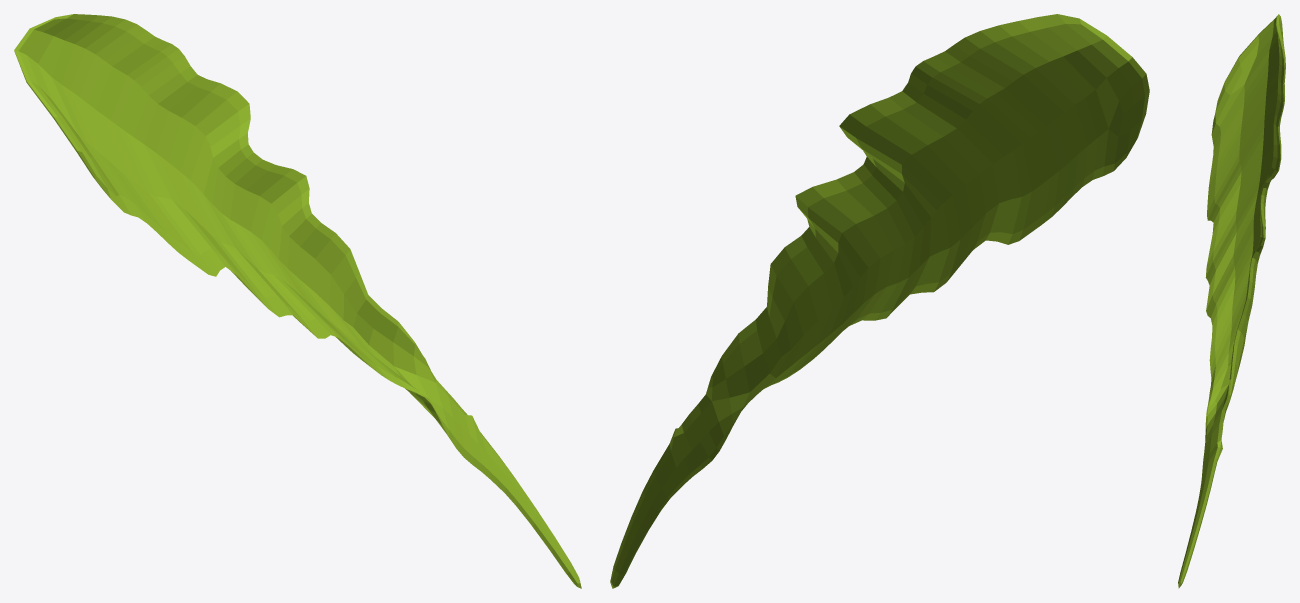
Rendered from hoja 1.fbx.
3 views of the same model, side by side, from view 1: azimuth 30°, elevation 25°; view 2: azimuth 150°, elevation 25°; view 3: azimuth 270°, elevation 25° (orthographic). The views are drawn at different scales.
Parts seen in each view (by area): view 1: Plane.007; view 2: Plane.007; view 3: Plane.007.
Boxes of the visible parts, bbox=[...] form: Plane.007: bbox=[14, 14, 581, 588]; Plane.007: bbox=[610, 14, 1149, 588]; Plane.007: bbox=[1178, 14, 1285, 588].
Size of the model in its own units: 151 by 183 by 42.39.
